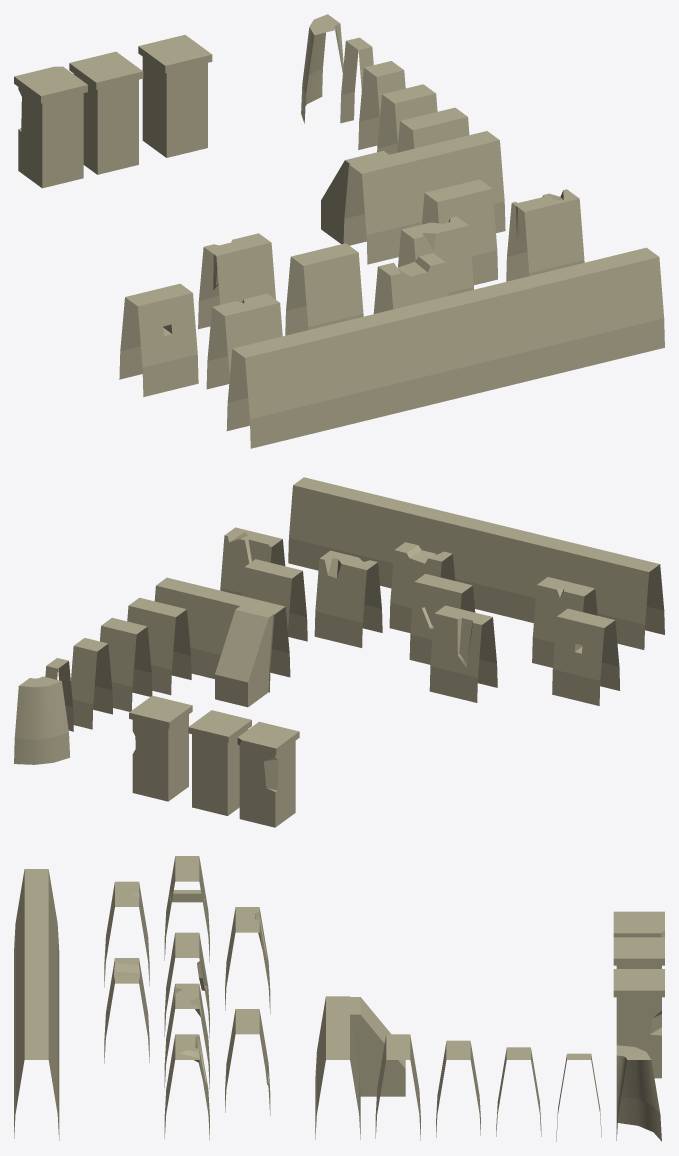
Rendered from wall_1_segments.fbx.
The picture shows the model from 3 angles, top to bottom: view 1: azimuth 30°, elevation 25°; view 2: azimuth 150°, elevation 25°; view 3: azimuth 270°, elevation 25°; orthographic projection. The views are drawn at different scales.
Visible parts, largest first — view 1: wall_1_segment_10, wall_1_segment_5, wall_1_segment_3, wall_1_segment_1, wall_1_segment_18, wall_1_segment_2, wall_1_segment_15, wall_1_segment_11, wall_1_segment_16, wall_1_segment_12, wall_1_segment_17, wall_1_segment_13 (+7 smaller); view 2: wall_1_segment_10, wall_1_segment_5, wall_1_segment_1, wall_1_segment_3, wall_1_segment_16, wall_1_segment_18, wall_1_segment_13, wall_1_segment_2, wall_1_segment_19, wall_1_segment_4, wall_1_segment_6, wall_1_segment_7 (+7 smaller); view 3: wall_1_segment_10, wall_1_segment_3, wall_1_segment_19, wall_1_segment_4, wall_1_segment_5, wall_1_segment_18, wall_1_segment_2, wall_1_segment_1, wall_1_segment_15, wall_1_segment_13, wall_1_segment_11, wall_1_segment_16 (+6 smaller).
Part boxes in pixels (x1=…): wall_1_segment_10: x1=226, y1=247, x2=664, y2=448; wall_1_segment_5: x1=343, y1=131, x2=505, y2=264; wall_1_segment_3: x1=138, y1=35, x2=212, y2=157; wall_1_segment_1: x1=14, y1=66, x2=87, y2=188; wall_1_segment_18: x1=119, y1=283, x2=198, y2=396; wall_1_segment_2: x1=69, y1=51, x2=143, y2=174; wall_1_segment_15: x1=285, y1=243, x2=363, y2=335; wall_1_segment_11: x1=506, y1=189, x2=584, y2=281; wall_1_segment_16: x1=198, y1=233, x2=275, y2=329; wall_1_segment_12: x1=421, y1=179, x2=497, y2=285; wall_1_segment_17: x1=206, y1=293, x2=282, y2=389; wall_1_segment_13: x1=398, y1=216, x2=473, y2=295; wall_1_segment_10: x1=288, y1=477, x2=664, y2=649; wall_1_segment_5: x1=154, y1=577, x2=290, y2=692; wall_1_segment_1: x1=237, y1=721, x2=299, y2=827; wall_1_segment_3: x1=129, y1=695, x2=192, y2=801; wall_1_segment_16: x1=429, y1=605, x2=497, y2=702; wall_1_segment_18: x1=552, y1=608, x2=620, y2=705; wall_1_segment_13: x1=314, y1=550, x2=382, y2=647; wall_1_segment_2: x1=188, y1=710, x2=251, y2=815; wall_1_segment_19: x1=215, y1=606, x2=273, y2=707; wall_1_segment_4: x1=14, y1=676, x2=69, y2=764; wall_1_segment_6: x1=127, y1=597, x2=191, y2=695; wall_1_segment_7: x1=100, y1=618, x2=152, y2=711; wall_1_segment_10: x1=14, y1=869, x2=59, y2=1140; wall_1_segment_3: x1=613, y1=969, x2=664, y2=1078; wall_1_segment_19: x1=350, y1=997, x2=405, y2=1096; wall_1_segment_4: x1=616, y1=1045, x2=661, y2=1141; wall_1_segment_5: x1=315, y1=996, x2=360, y2=1139; wall_1_segment_18: x1=164, y1=856, x2=209, y2=961; wall_1_segment_2: x1=613, y1=937, x2=664, y2=968; wall_1_segment_1: x1=613, y1=911, x2=664, y2=937; wall_1_segment_15: x1=164, y1=932, x2=209, y2=1038; wall_1_segment_13: x1=164, y1=983, x2=209, y2=1089; wall_1_segment_11: x1=164, y1=1034, x2=209, y2=1140; wall_1_segment_16: x1=225, y1=907, x2=270, y2=1013.
Size of the model in its own units: 32 by 6.5 by 43.2.
